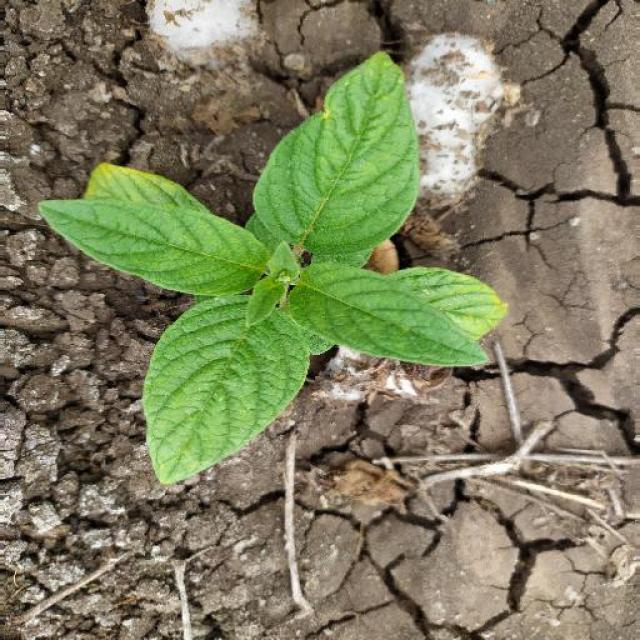crop: (40, 51, 500, 478)
